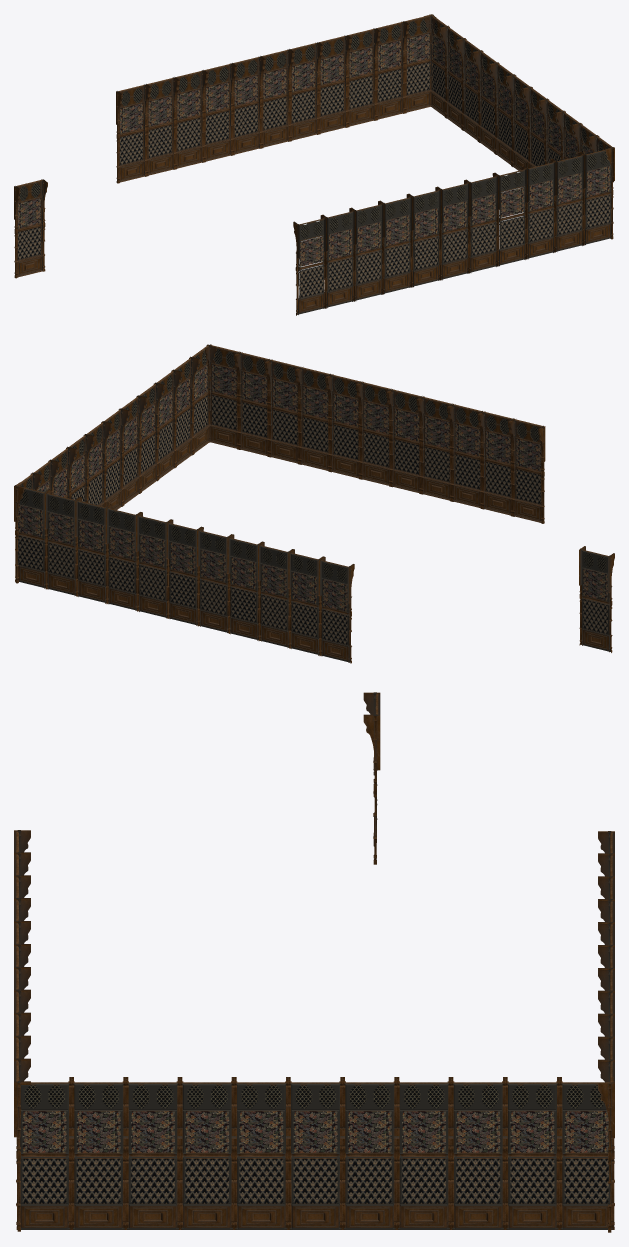
Rendered from wall__woden_9_mb.glb.
3 views of the same model, one above another, from view 1: azimuth 30°, elevation 25°; view 2: azimuth 150°, elevation 25°; view 3: azimuth 270°, elevation 25° (orthographic). The views are drawn at different scales.
Parts seen in each view (by area): view 1: test, Base; view 2: test, Base; view 3: test, Base.
Part boxes in pixels (x1,y1,x2,y2): test: (116,14,614,315); Base: (14,179,47,278); test: (14,344,545,663); Base: (579,546,614,652); test: (14,830,614,1232); Base: (363,692,380,864).
Bounding box in the file's own units: 1694 × 300 × 1098.
Materials: 1 (1 with a texture image).
